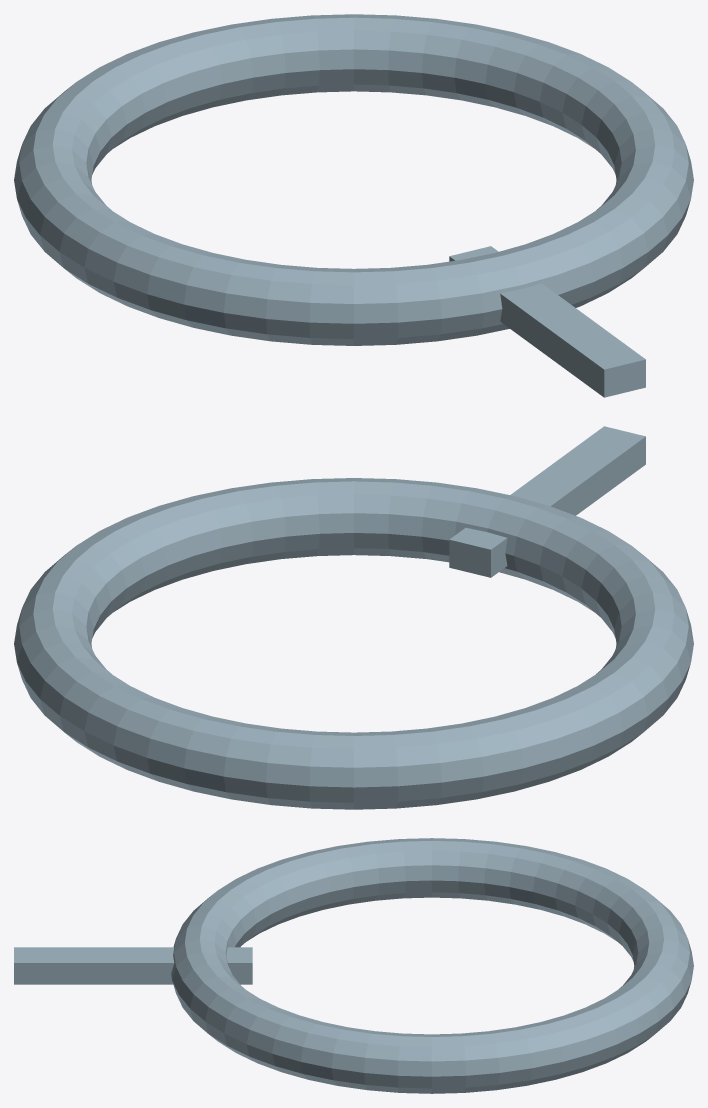
The model's file is oddity_0009.glb.
3 renders of one model, top to bottom at view 1: azimuth 30°, elevation 25°; view 2: azimuth 150°, elevation 25°; view 3: azimuth 270°, elevation 25°, orthographic. The views are drawn at different scales.
Parts seen in each view (by area): view 1: oddity_0009_Torus.001, oddity_0009_Cube; view 2: oddity_0009_Torus.001, oddity_0009_Cube; view 3: oddity_0009_Torus.001, oddity_0009_Cube.
Part boxes in pixels (left/top/right/bottom): oddity_0009_Torus.001: left=14, top=14, right=693, bottom=345; oddity_0009_Cube: left=449, top=246, right=645, bottom=397; oddity_0009_Torus.001: left=14, top=478, right=693, bottom=809; oddity_0009_Cube: left=449, top=426, right=645, bottom=577; oddity_0009_Torus.001: left=171, top=838, right=693, bottom=1093; oddity_0009_Cube: left=14, top=947, right=252, bottom=984.
Bounding box in the file's own units: 0.316 × 0.036 × 0.41.
